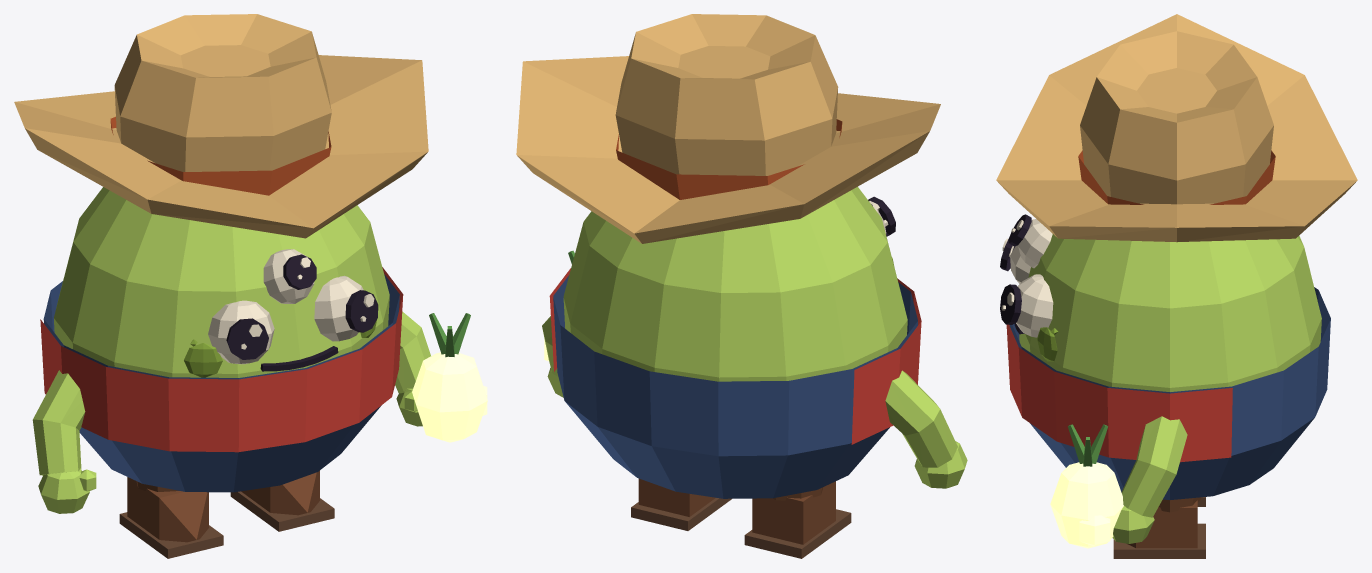
Rendered from Char_Native_Farmer.fbx.
3 views of the same model, side by side, from view 1: azimuth 30°, elevation 25°; view 2: azimuth 150°, elevation 25°; view 3: azimuth 270°, elevation 25° (orthographic). The views are drawn at different scales.
Parts seen in each view (by area): view 1: Char_Native_Farmer_Body, Char_Native_Farmer_Head, Char_Native_Farmer_Arm_L, Char_Native_Farmer_Arm_R, Char_Native_Farmer_Leg_R, Char_Native_Farmer_Leg_L; view 2: Char_Native_Farmer_Body, Char_Native_Farmer_Leg_R, Char_Native_Farmer_Arm_R, Char_Native_Farmer_Leg_L, Char_Native_Farmer_Arm_L; view 3: Char_Native_Farmer_Body, Char_Native_Farmer_Arm_L, Char_Native_Farmer_Head, Char_Native_Farmer_Leg_L.
Boxes of the visible parts, x1,y1,x2,y2 form: Char_Native_Farmer_Body: [14, 14, 428, 492]; Char_Native_Farmer_Head: [184, 249, 378, 377]; Char_Native_Farmer_Arm_L: [395, 311, 487, 442]; Char_Native_Farmer_Arm_R: [32, 370, 96, 513]; Char_Native_Farmer_Leg_R: [119, 477, 223, 558]; Char_Native_Farmer_Leg_L: [230, 470, 334, 531]; Char_Native_Farmer_Body: [516, 14, 940, 498]; Char_Native_Farmer_Leg_R: [744, 481, 851, 558]; Char_Native_Farmer_Arm_R: [885, 370, 967, 488]; Char_Native_Farmer_Leg_L: [631, 478, 731, 530]; Char_Native_Farmer_Arm_L: [542, 250, 574, 397]; Char_Native_Farmer_Body: [996, 14, 1357, 499]; Char_Native_Farmer_Arm_L: [1050, 416, 1187, 548]; Char_Native_Farmer_Head: [1000, 214, 1058, 361]; Char_Native_Farmer_Leg_L: [1113, 497, 1205, 558].
Size of the model in its own units: 1.38 by 1.46 by 1.06.
